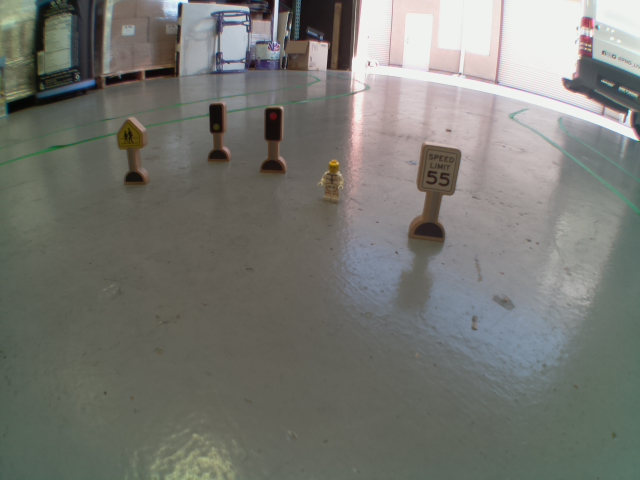Green Traffic Light: (207, 102, 224, 135)
Red Traffic Light: (262, 106, 286, 145)
Speed Limit 55: (420, 141, 458, 196)
YIELD: (116, 118, 143, 149)
person: (316, 159, 348, 201)
